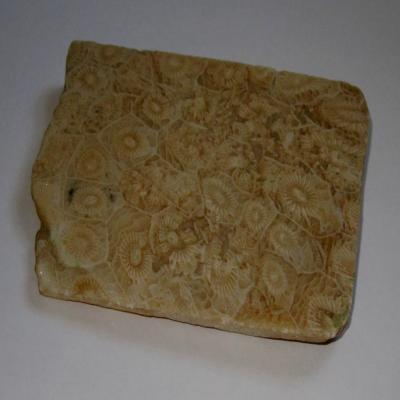mineralogy: (31, 43, 369, 342)
